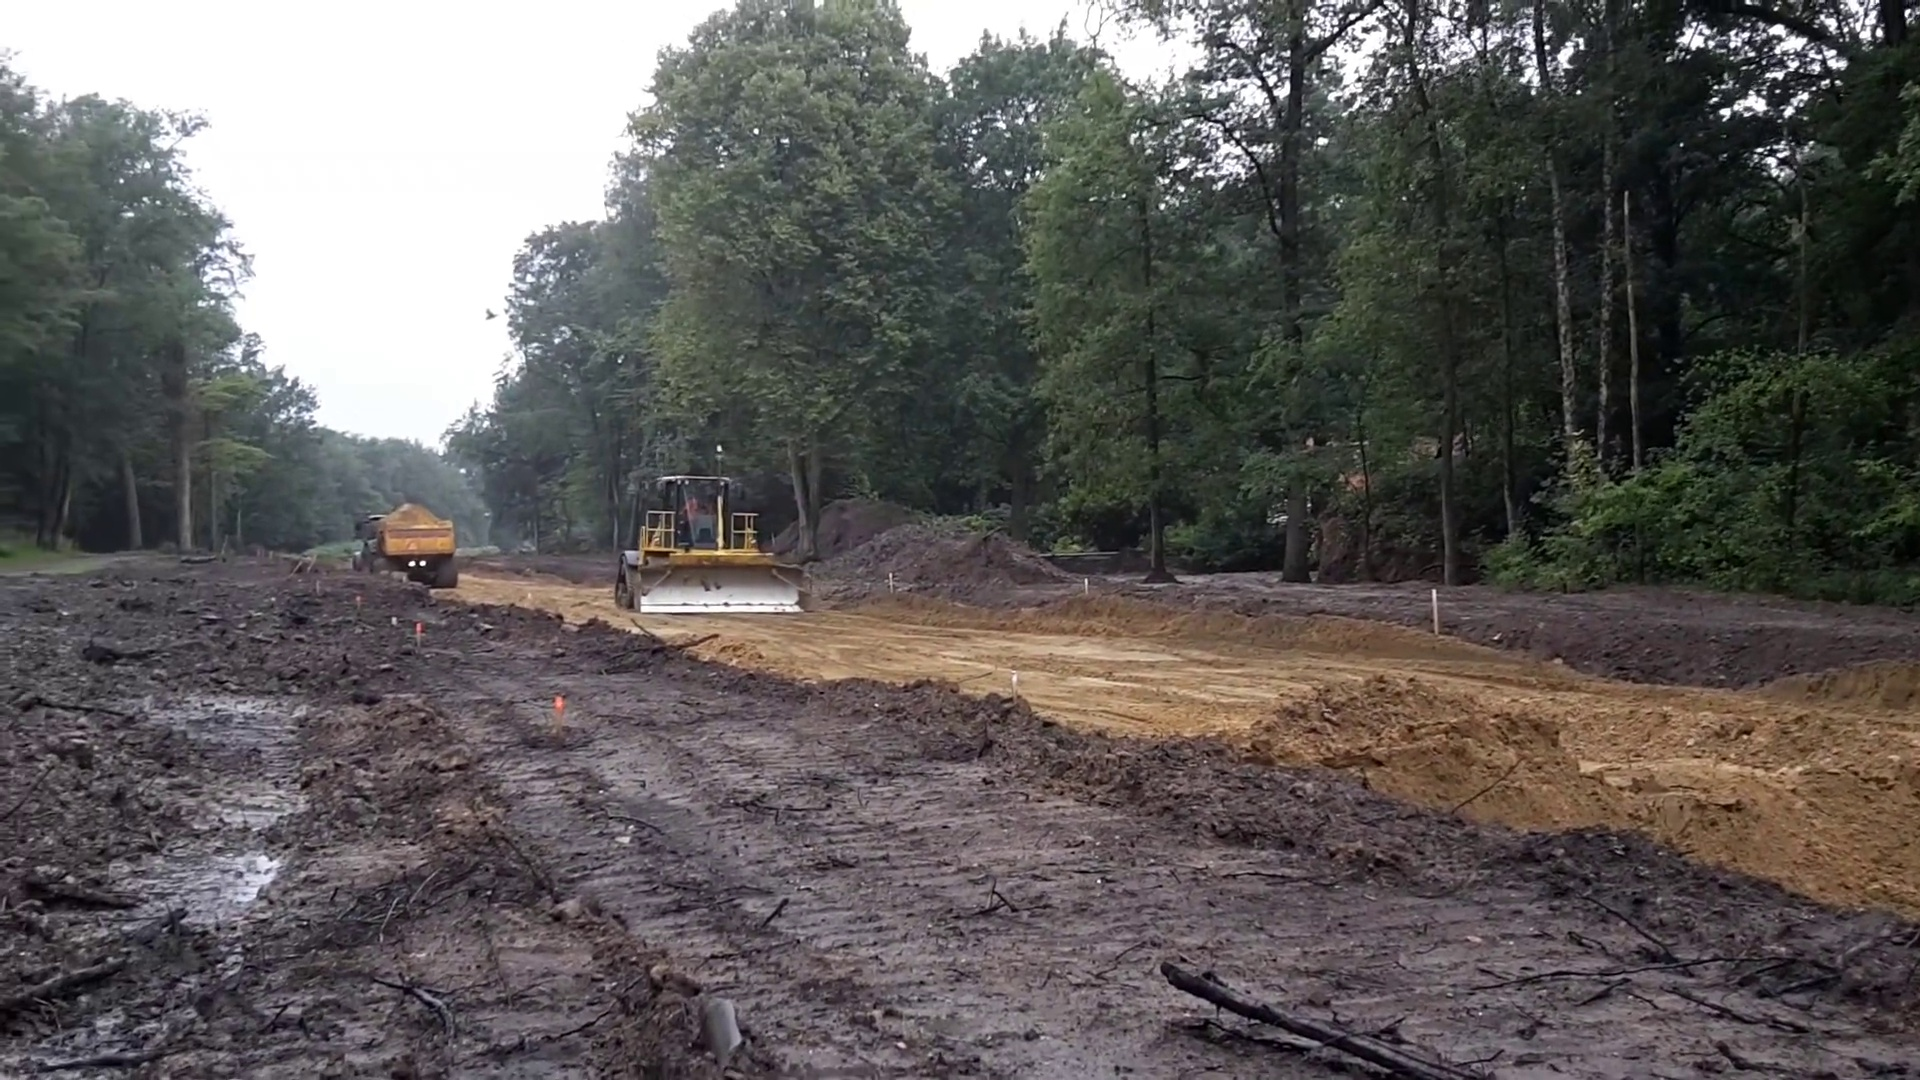bulldozer: (611, 476, 812, 618)
truck: (351, 496, 465, 589)
